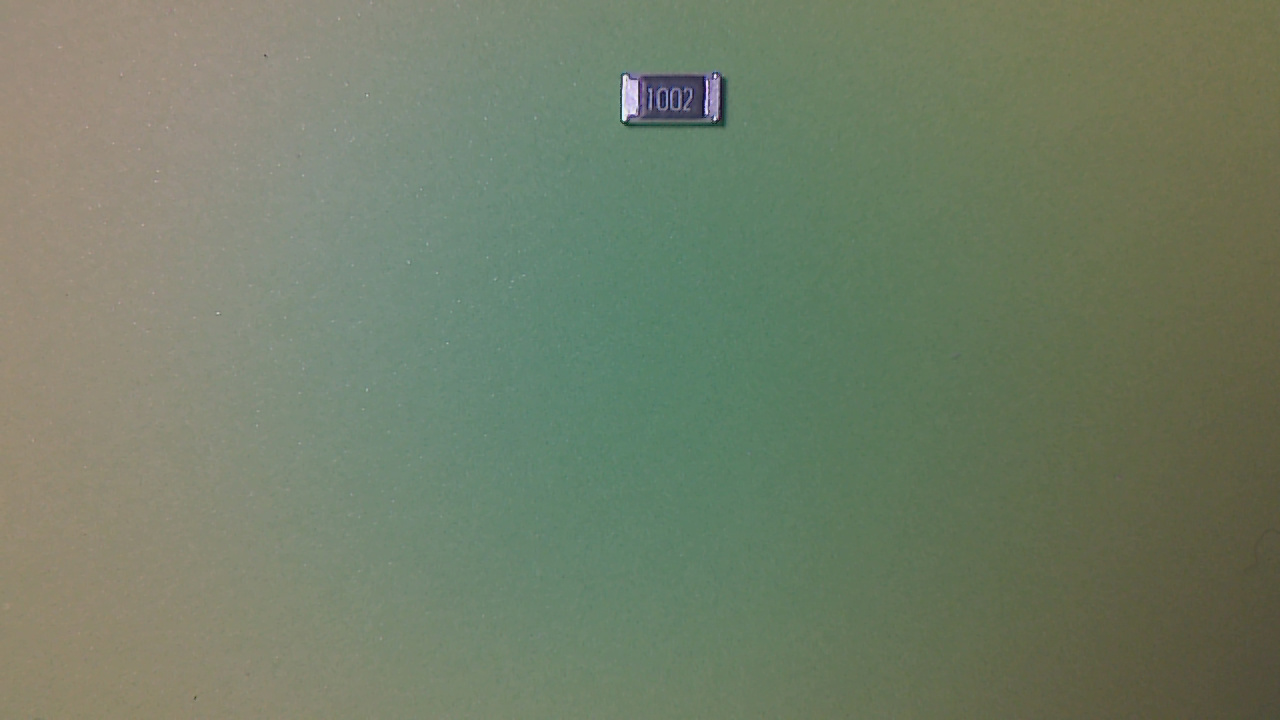Resistor: (623, 75, 732, 132)
